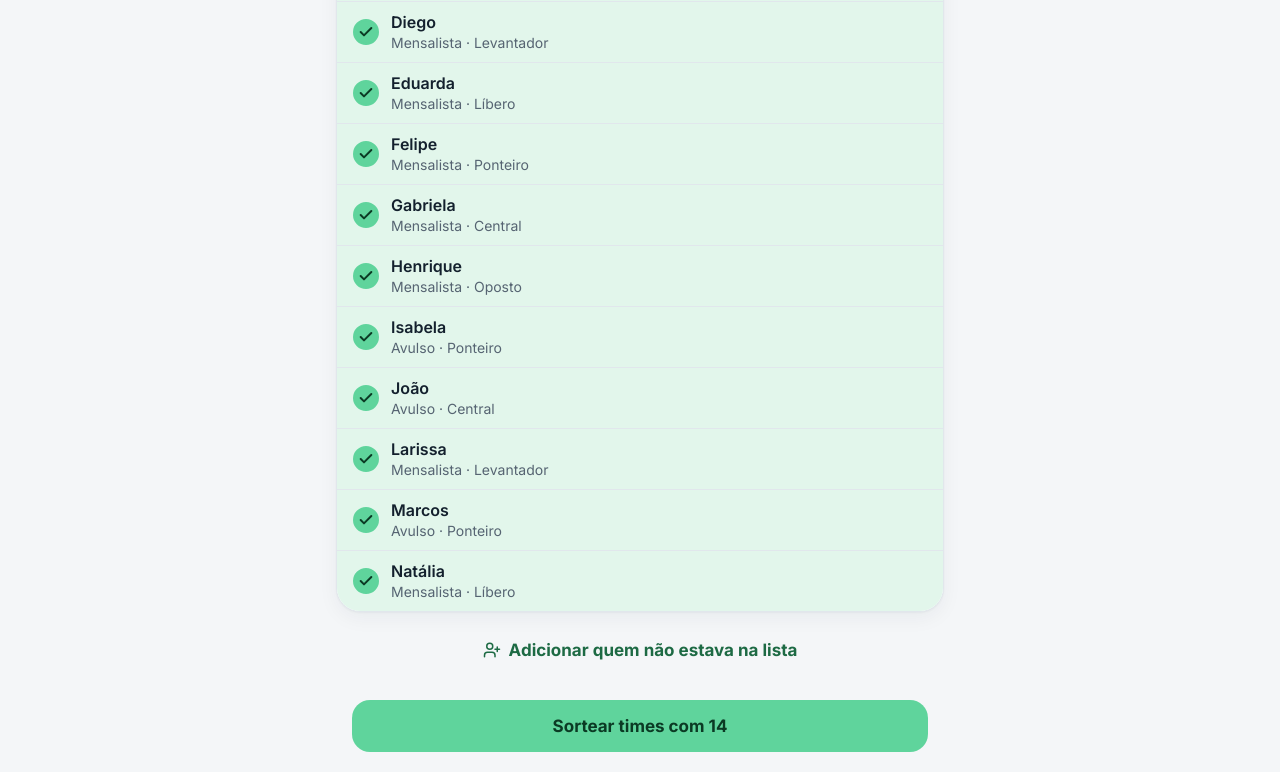
Test: Modo demonstração › no dia de jogo, pessoa nova entra já marcada como chegou
(page scrolled)
Click the button "Adicionar quem não estava na lista": (640, 650) [336,628,944,672]
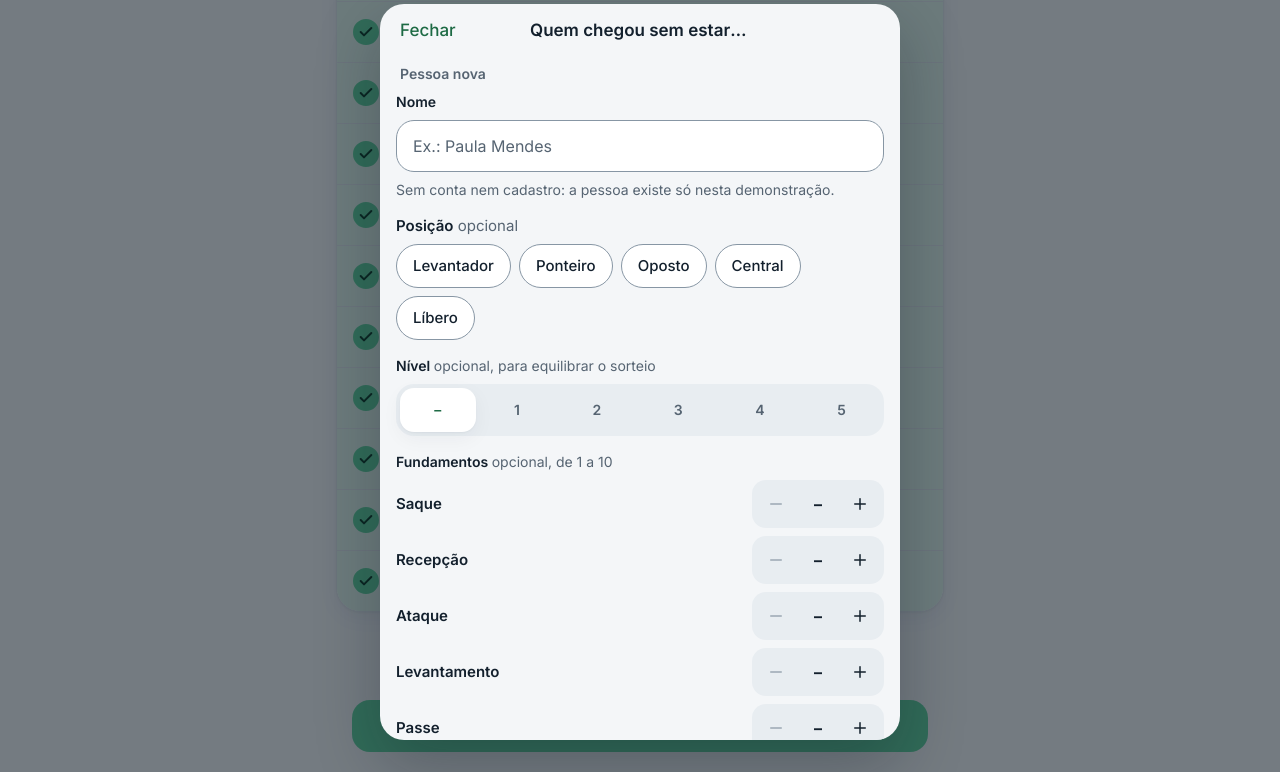
In the field labelled "Nome": (640, 146) [396,120,884,172], type "Rui Teixeira"
(page scrolled)
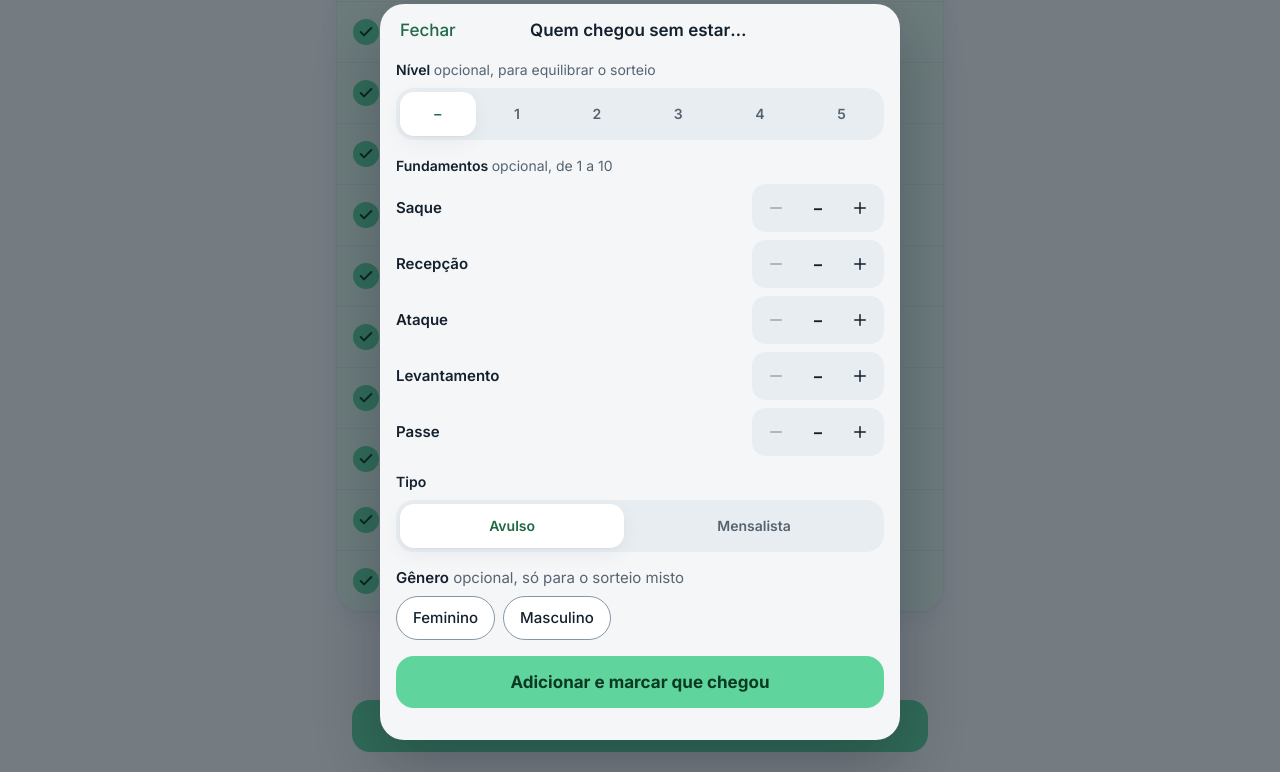
Click the button "Adicionar e marcar que chegou": (640, 682) [396,656,884,708]
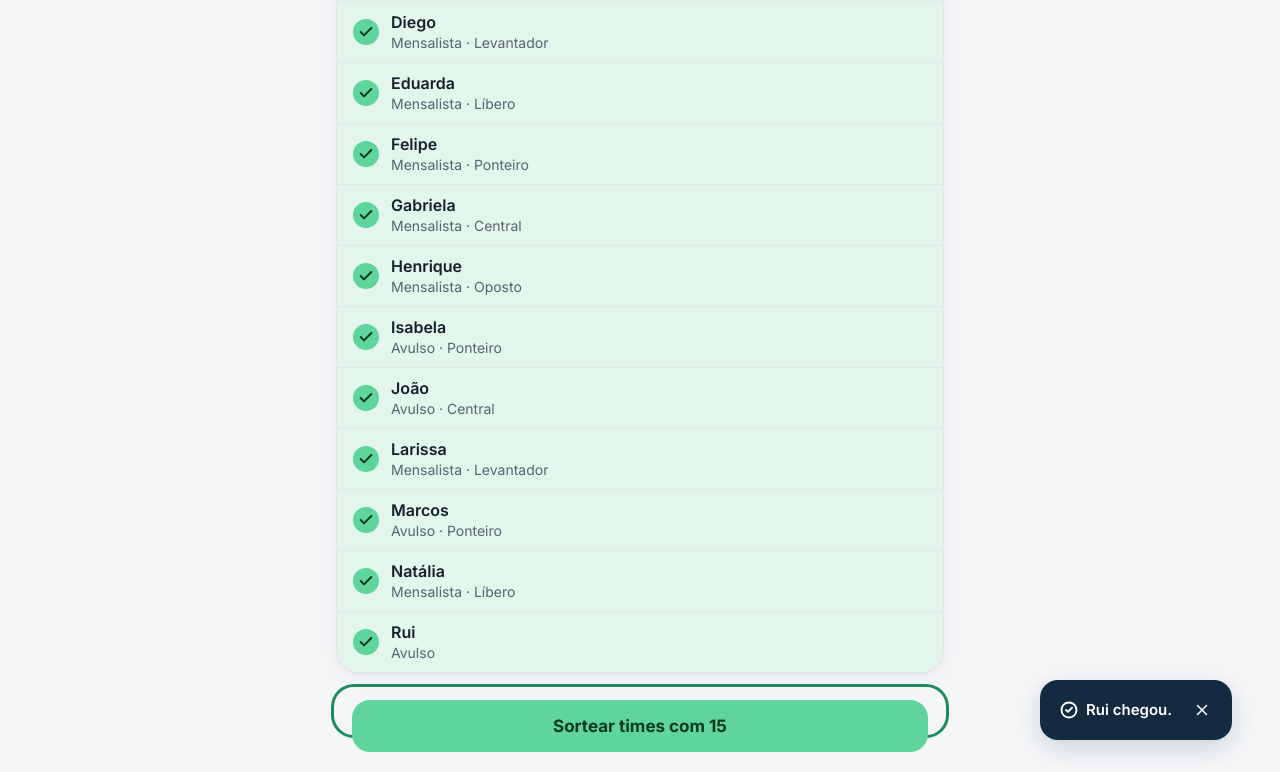
Now the button "Sortear times com 15" is shown, box [352,700,928,752]
Now the button "Rui Avulso" is shown, box [337,612,943,672]
